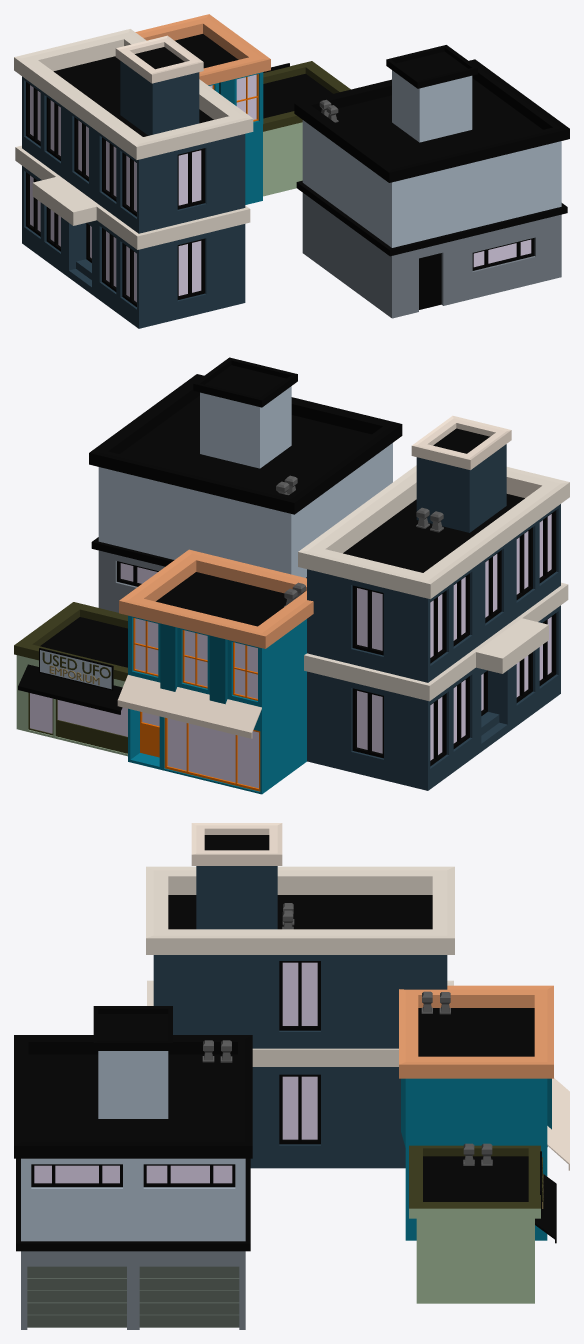
The model's file is middle_right_block.fbx.
3 renders of one model, top to bottom at view 1: azimuth 30°, elevation 25°; view 2: azimuth 150°, elevation 25°; view 3: azimuth 270°, elevation 25°, orthographic. The views are drawn at different scales.
Visible parts, largest first — view 1: block2; view 2: block2; view 3: block2.
Boxes of the visible parts, x1,y1,x2,y2 form: block2: (14,14,569,328); block2: (14,357,569,794); block2: (14,823,569,1329).
Size of the model in its own units: 6858 by 3841 by 6513.
